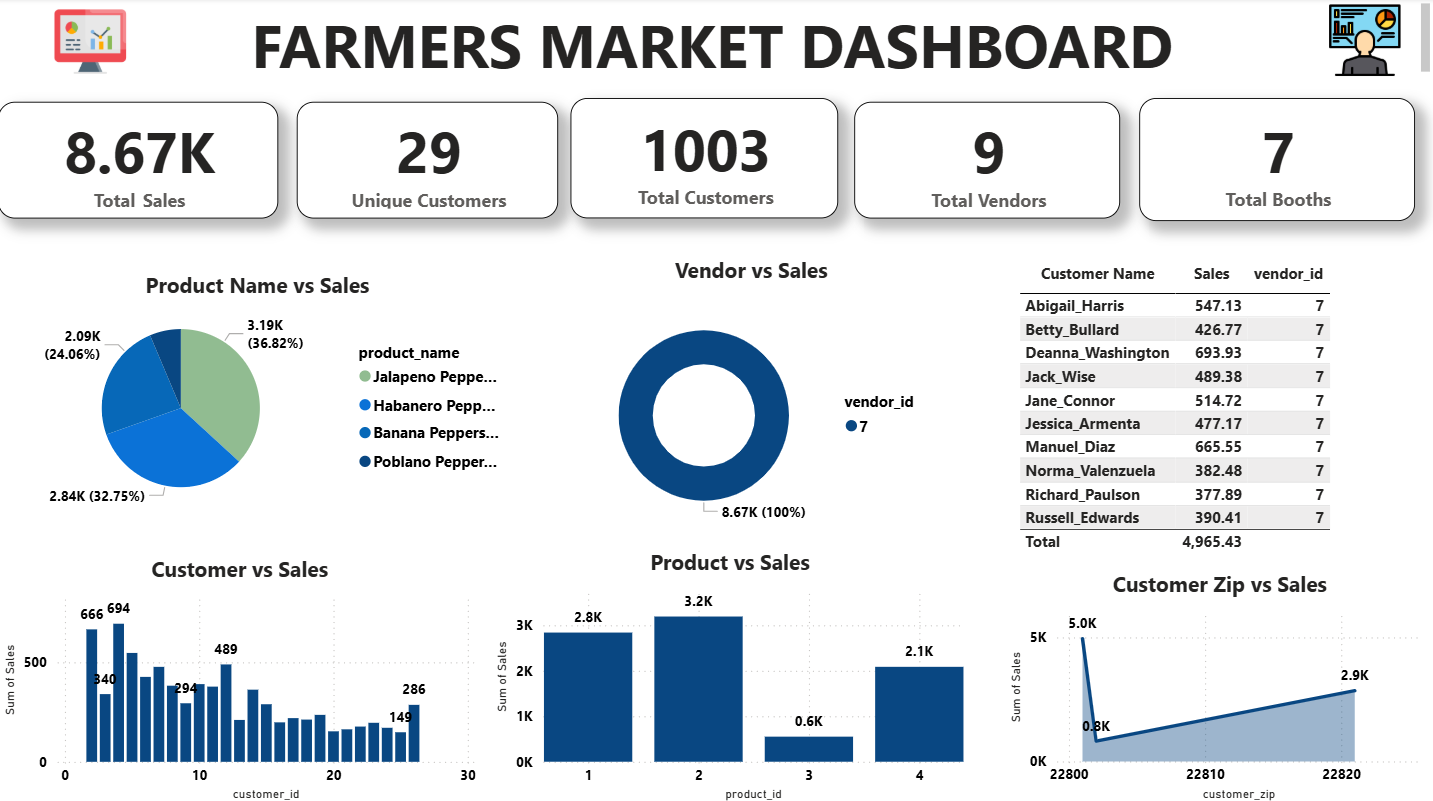

Layout of this report page (visuals, bound fields, positions):
{"tool":"powerbi","page":{"name":"Sales wise Analysis","canvas":[1280,720],"ordinal":1},"visuals":[{"type":"columnChart","title":"Customer Vs Sales","fields":{"Category":["customer_purchases.customer_id"],"Y":["customer_purchases.Sales"]},"box":[0,456.1,459.8,264.1],"z":0},{"type":"clusteredColumnChart","title":"Product Vs Sales","fields":{"Category":["product.product_id"],"Y":["customer_purchases.Sales"]},"box":[459.8,457.3,448.8,262.9],"z":1000},{"type":"pieChart","title":"Product Name Vs Sales","fields":{"Category":["product.product_name"],"Y":["customer_purchases.Sales"]},"box":[0,205.7,460,251.4],"z":2000},{"type":"donutChart","title":"Vendor Vs Sales","fields":{"Category":["customer_purchases.vendor_id"],"Y":["customer_purchases.Sales"]},"box":[460,206.2,420,253.8],"z":3000},{"type":"textbox","box":[193.2,0,896.3,85.6],"z":4000},{"type":"image","box":[0,0,148,85.6],"z":5000},{"type":"image","box":[1131.1,0,149.2,85.6],"z":6000},{"type":"card","fields":{"Values":["customer_purchases.Total_Sales"]},"box":[0,85.6,264.1,105.2],"z":7000},{"type":"card","fields":{"Values":["customer_purchases.customer_id"]},"box":[280,85.6,242.1,105.2],"z":8000},{"type":"card","fields":{"Values":["customer_purchases.customer_id"]},"box":[539.3,85.6,248.2,105.2],"z":9000},{"type":"card","fields":{"Values":["vendor.vendor_id"]},"box":[804.6,85.6,231.1,105.2],"z":10000},{"type":"card","fields":{"Values":["vendor_booth_assignments.booth_number"]},"box":[1055.3,85.6,225,105.2],"z":11000},{"type":"tableEx","fields":{"Values":["customer.Customer_Full_Name","customer_purchases.Sales"]},"box":[870.7,206.7,409.6,250.7],"z":12000},{"type":"areaChart","title":"Customer Zip Vs Sales","fields":{"Category":["customer.customer_zip"],"Y":["customer_purchases.Sales"]},"box":[900,456.2,380,263.8],"z":13000}]}

Visuals, with their boxes in screenshot pixels (x1, y1, x2, y2), scaled from the page's 1280x720 canvas onto the 1433x801 screenshot:
"Customer Vs Sales" columnChart: 0,507,515,800
"Product Vs Sales" clusteredColumnChart: 515,509,1017,800
"Product Name Vs Sales" pieChart: 0,229,515,509
"Vendor Vs Sales" donutChart: 515,229,985,512
textbox: 216,0,1220,95
image: 0,0,166,95
image: 1266,0,1432,95
card - customer_purchases.Total_Sales: 0,95,296,212
card - customer_purchases.customer_id: 313,95,585,212
card - customer_purchases.customer_id: 604,95,882,212
card - vendor.vendor_id: 901,95,1159,212
card - vendor_booth_assignments.booth_number: 1181,95,1432,212
tableEx - customer.Customer_Full_Name x customer_purchases.Sales: 975,230,1432,509
"Customer Zip Vs Sales" areaChart: 1008,508,1432,800
